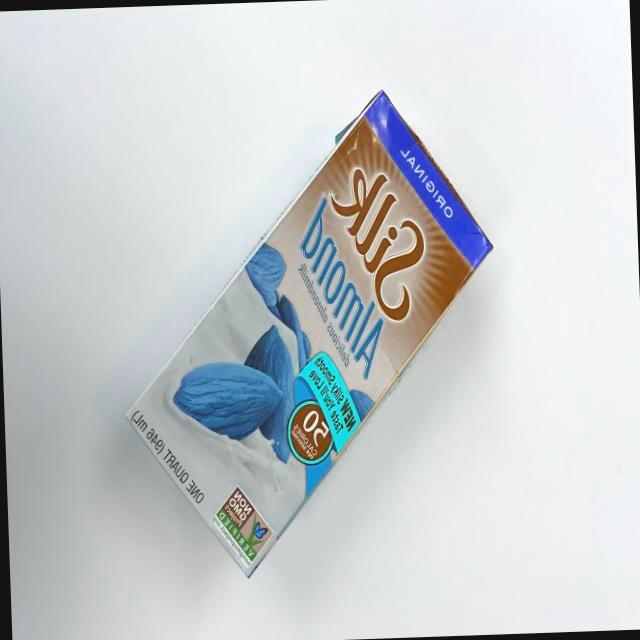paper: (105, 58, 515, 584)
